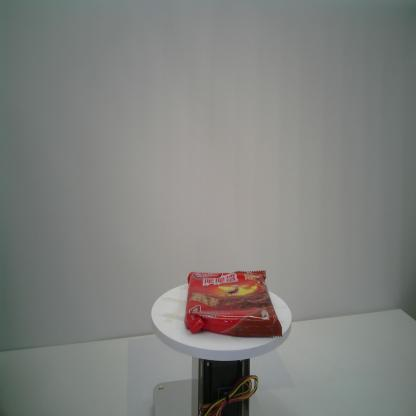Dessert: (183, 269, 284, 339)
